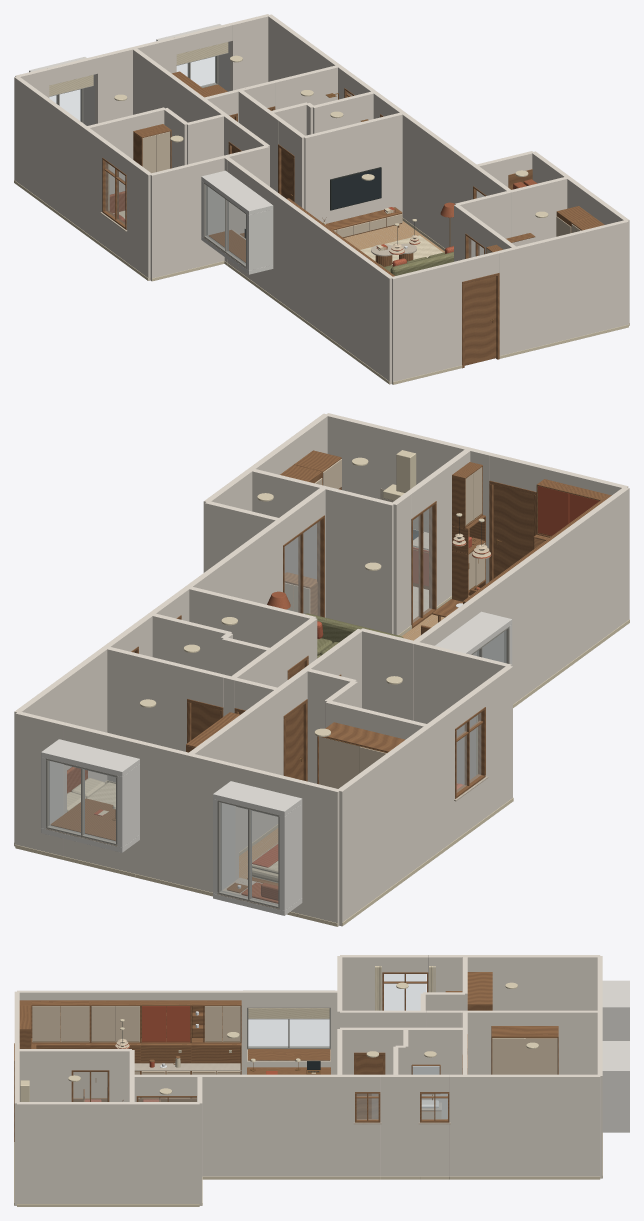
The model's file is house.glb.
The picture shows the model from 3 angles, top to bottom: view 1: azimuth 30°, elevation 25°; view 2: azimuth 150°, elevation 25°; view 3: azimuth 270°, elevation 25°; orthographic projection. The views are drawn at different scales.
Visible parts, largest first — view 1: Wall 04 / pier.001, Wall 03 / pier.001, Wall 01 / pier, Wall 13 / pier, Wall 04 / pier, Wall 07 / pier.002, Wall 02 / pier, Wall 00 / pier.001, Wall 08 / pier, Wall 15 / pier, Wall 07 / pier, entry_door / oak door leaf (+42 smaller); view 2: Wall 03 / pier.001, Wall 01 / pier, Wall 00 / pier.001, Wall 16 / pier, Wall 04 / pier.001, Wall 10 / pier.002, Wall 02 / pier, Wall 08 / pier, Wall 00 / pier, Wall 00 / pier.002, Wall 07 / pier, Wall 07 / pier.002 (+55 smaller); view 3: Wall 05 / pier, Wall 07 / pier.002, Wall 07 / pier, Wall 01 / pier, Wall 08 / pier, Wall 07 / pier.001, Wall 11 / pier, Wall 03 / pier.001, Wall 17 / pier.001, Wall 01 / pier.001, Wall 07 / sill, Wall 03 / lintel (+52 smaller).
Boxes of the visible parts, <box> form: Wall 04 / pier.001: <box>497,220,628,355</box>; Wall 03 / pier.001: <box>271,191,393,384</box>; Wall 01 / pier: <box>14,76,106,244</box>; Wall 13 / pier: <box>304,112,402,223</box>; Wall 04 / pier: <box>391,260,461,384</box>; Wall 07 / pier.002: <box>393,107,476,248</box>; Wall 02 / pier: <box>150,155,226,280</box>; Wall 00 / pier.001: <box>95,37,176,123</box>; Wall 08 / pier: <box>132,48,206,122</box>; Wall 15 / pier: <box>511,177,568,246</box>; Wall 07 / pier: <box>268,14,348,99</box>; entry_door / oak door leaf: <box>464,276,496,365</box>; Wall 03 / pier.001: <box>473,487,629,704</box>; Wall 01 / pier: <box>339,708,454,926</box>; Wall 00 / pier.001: <box>135,740,238,892</box>; Wall 16 / pier: <box>324,486,394,634</box>; Wall 04 / pier.001: <box>325,413,492,583</box>; Wall 10 / pier.002: <box>107,647,190,782</box>; Wall 02 / pier: <box>413,641,511,784</box>; Wall 08 / pier: <box>188,687,283,851</box>; Wall 00 / pier: <box>297,780,340,926</box>; Wall 00 / pier.002: <box>15,711,66,856</box>; Wall 07 / pier: <box>14,639,118,846</box>; Wall 07 / pier.002: <box>175,519,282,621</box>; Wall 05 / pier: <box>17,1102,199,1203</box>; Wall 07 / pier.002: <box>199,1074,354,1176</box>; Wall 07 / pier: <box>449,1074,600,1176</box>; Wall 01 / pier: <box>428,955,600,1010</box>; Wall 08 / pier: <box>462,1010,599,1074</box>; Wall 07 / pier.001: <box>380,1074,419,1176</box>; Wall 11 / pier: <box>385,1027,464,1118</box>; Wall 03 / pier.001: <box>17,990,246,1074</box>; Wall 17 / pier.001: <box>17,1049,71,1101</box>; Wall 01 / pier.001: <box>340,955,382,1010</box>; Wall 07 / sill: <box>420,1124,449,1176</box>; Wall 03 / lintel: <box>247,990,330,1007</box>.
Size of the model in its own units: 8.46 by 2.71 by 14.67.
35 materials, 14 textured.
